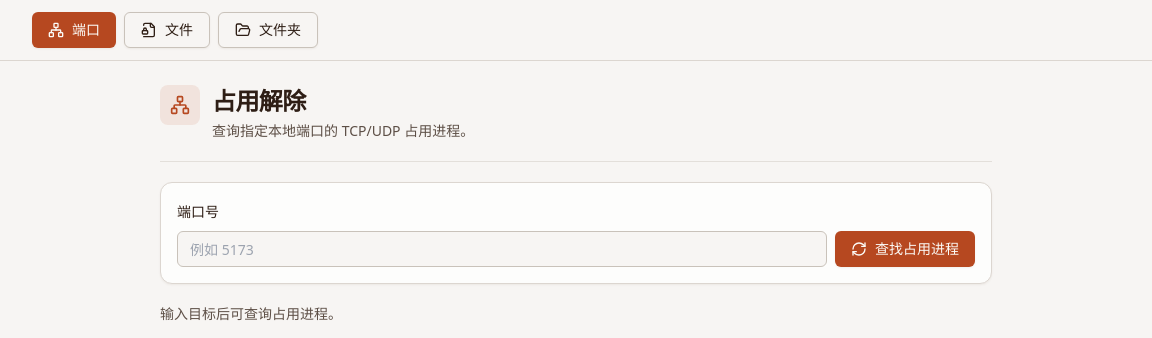
Test: Windows process tools › 切换模式后丢弃旧查询，且可以继续发起查询
Step 1. Type "5173" into the field labelled "端口号" → (502, 249), box [177,231,827,267]
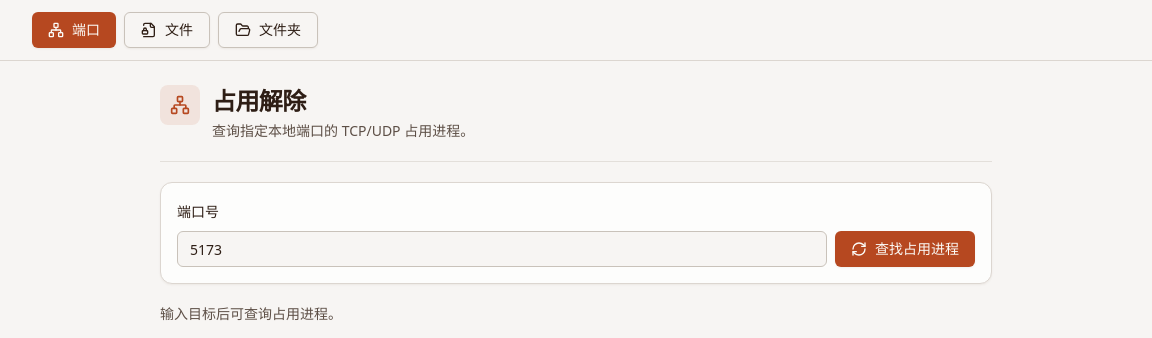
Step 2. Click the button "查找占用进程" → (905, 249), box [835,231,975,267]
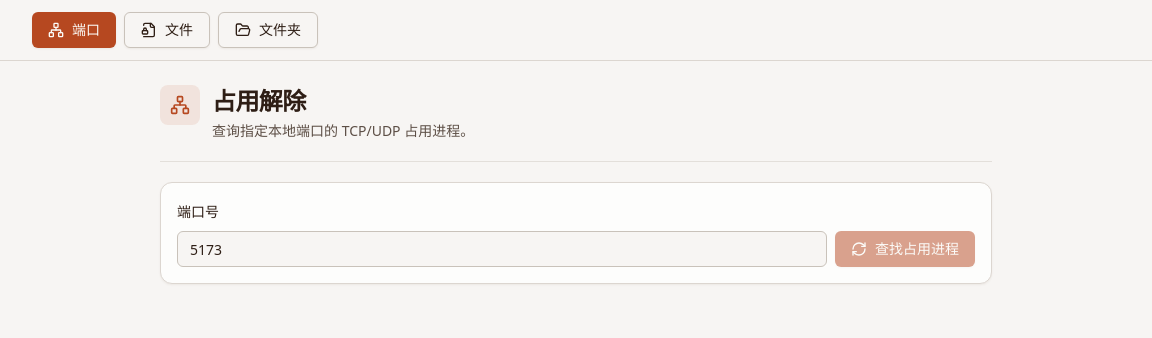
Step 3. Click the button "文件夹" → (268, 30), box [218,12,318,48]
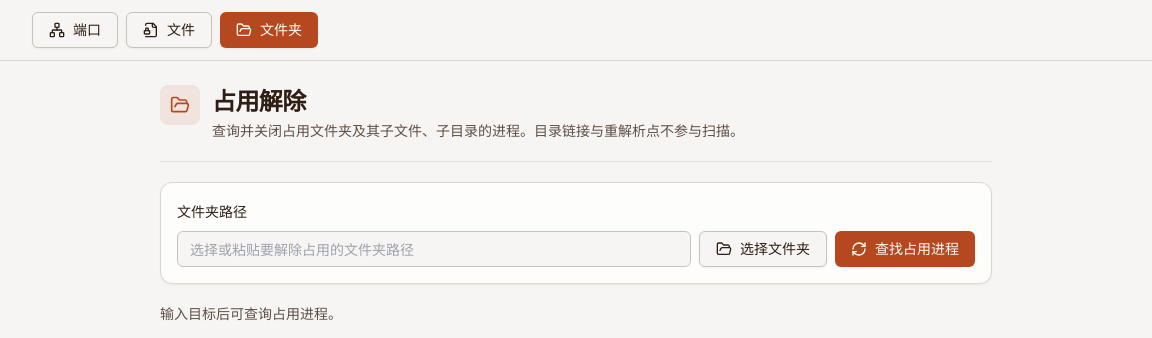
Expected: the button "查找占用进程" is enabled, [835,231,975,267]
Expected: the field labelled "文件夹路径" is empty, [177,231,691,267]
